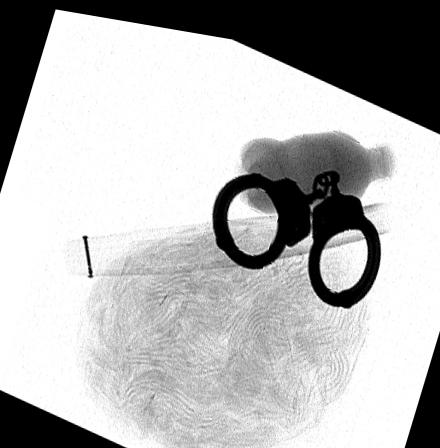HandCuffs: (213, 157, 381, 296)
